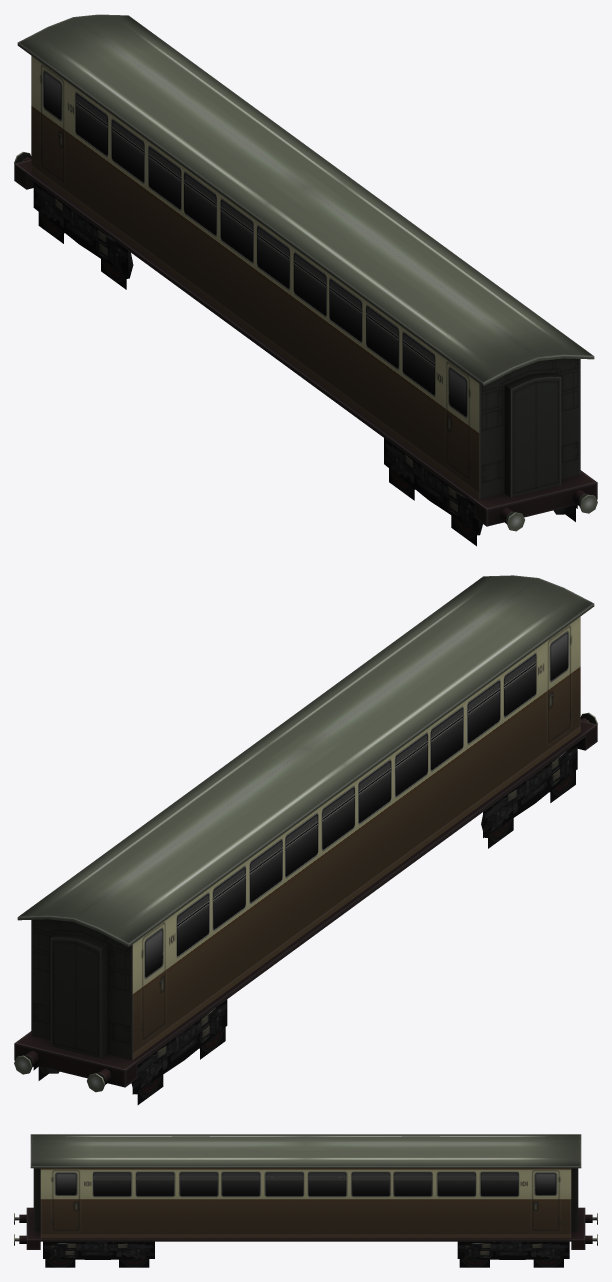
Rendered from Train06_CarriageB.fbx.
The picture shows the model from 3 angles, top to bottom: view 1: azimuth 30°, elevation 25°; view 2: azimuth 150°, elevation 25°; view 3: azimuth 270°, elevation 25°; orthographic projection. The views are drawn at different scales.
Parts seen in each view (by area): view 1: Empty_Mesh; view 2: Empty_Mesh; view 3: Empty_Mesh.
Part boxes in pixels (box(x1,y1,x2,y2)): Empty_Mesh: box(14, 14, 597, 546); Empty_Mesh: box(14, 575, 597, 1104); Empty_Mesh: box(14, 1134, 597, 1267).
Bounding box in the file's own units: 1.64 × 2.62 × 12.62.
